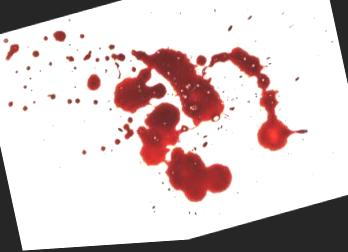Fire: (0, 0, 317, 237)
